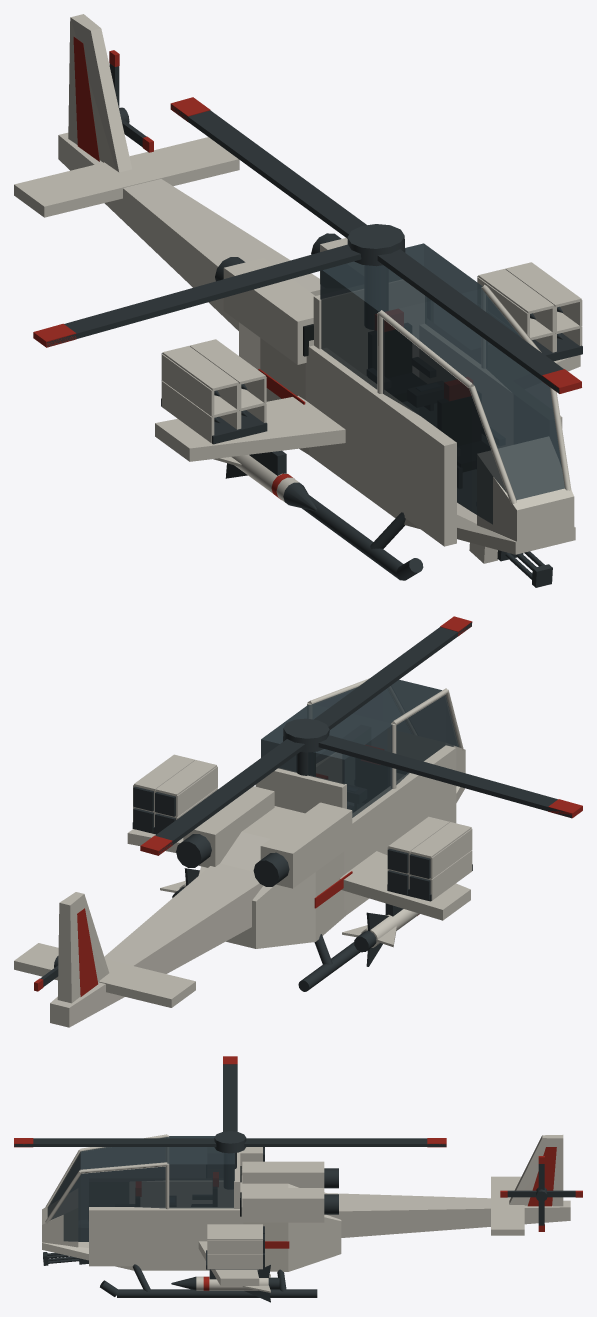
The picture shows the model from 3 angles, top to bottom: view 1: azimuth 30°, elevation 25°; view 2: azimuth 150°, elevation 25°; view 3: azimuth 270°, elevation 25°; orthographic projection. The views are drawn at different scales.
Visible parts, largest first — view 1: helicopter-painted, helicopter-glazing, rocket-pod--1-painted, blade-arm-2-painted, rocket-pod-1-painted, blade-arm-3-painted, breakaway-0-painted, blade-arm-1-painted, crew-chair-pilot-painted, crew-chair-gunner-painted, store-left-large-painted, rotor-main-fleet-machine (+1 smaller); view 2: helicopter-painted, helicopter-glazing, rocket-pod--1-painted, rocket-pod-1-painted, breakaway-0-painted, blade-arm-2-painted, blade-arm-1-painted, blade-arm-3-painted, breakaway-1-painted, store-left-large-painted, rotor-main-fleet-machine, crew-chair-gunner-painted; view 3: helicopter-painted, helicopter-glazing, breakaway-1-painted, rocket-pod-1-painted, breakaway-0-painted, blade-arm-1-painted, blade-arm-3-painted, store-right-large-painted, blade-arm-2-painted, rotor-main-fleet-machine, rocket-pod--1-painted, crew-chair-pilot-painted.
Part boxes in pixels (x1=…): helicopter-painted: x1=14, y1=14, x2=580, y2=580; helicopter-glazing: x1=320, y1=243, x2=564, y2=524; rocket-pod--1-painted: x1=161, y1=339, x2=267, y2=444; blade-arm-2-painted: x1=33, y1=244, x2=361, y2=347; rocket-pod-1-painted: x1=477, y1=262, x2=582, y2=361; blade-arm-3-painted: x1=377, y1=249, x2=581, y2=393; breakaway-0-painted: x1=223, y1=258, x2=314, y2=364; blade-arm-1-painted: x1=170, y1=97, x2=366, y2=238; crew-chair-pilot-painted: x1=367, y1=309, x2=443, y2=427; crew-chair-gunner-painted: x1=438, y1=377, x2=504, y2=488; store-left-large-painted: x1=213, y1=454, x2=317, y2=511; rotor-main-fleet-machine: x1=347, y1=224, x2=405, y2=266; helicopter-painted: x1=14, y1=678, x2=470, y2=1027; helicopter-glazing: x1=261, y1=679, x2=458, y2=817; rocket-pod--1-painted: x1=387, y1=816, x2=472, y2=901; rocket-pod-1-painted: x1=132, y1=754, x2=217, y2=834; breakaway-0-painted: x1=260, y1=802, x2=352, y2=888; blade-arm-2-painted: x1=318, y1=735, x2=582, y2=818; blade-arm-1-painted: x1=140, y1=739, x2=305, y2=855; blade-arm-3-painted: x1=314, y1=616, x2=472, y2=729; breakaway-1-painted: x1=183, y1=786, x2=274, y2=867; store-left-large-painted: x1=342, y1=909, x2=419, y2=966; rotor-main-fleet-machine: x1=283, y1=718, x2=329, y2=752; crew-chair-gunner-painted: x1=355, y1=745, x2=407, y2=810; helicopter-painted: x1=42, y1=1134, x2=570, y2=1297; helicopter-glazing: x1=47, y1=1136, x2=234, y2=1241; breakaway-1-painted: x1=242, y1=1188, x2=324, y2=1222; rocket-pod-1-painted: x1=206, y1=1224, x2=264, y2=1269; breakaway-0-painted: x1=242, y1=1161, x2=324, y2=1187; blade-arm-1-painted: x1=244, y1=1138, x2=446, y2=1147; blade-arm-3-painted: x1=14, y1=1138, x2=216, y2=1147; store-right-large-painted: x1=171, y1=1265, x2=279, y2=1302; blade-arm-2-painted: x1=223, y1=1056, x2=237, y2=1131; rotor-main-fleet-machine: x1=214, y1=1131, x2=246, y2=1153; rocket-pod--1-painted: x1=239, y1=1147, x2=264, y2=1174; crew-chair-pilot-painted: x1=170, y1=1172, x2=218, y2=1206.
Bounding box in the file's own units: 39.83 × 18.06 × 66.32.
